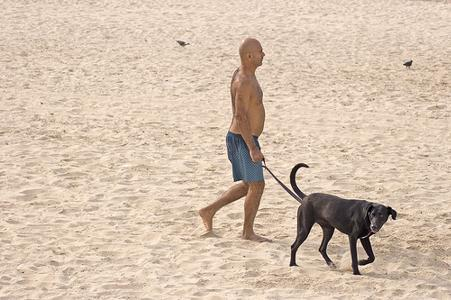person: (200, 39, 273, 245)
